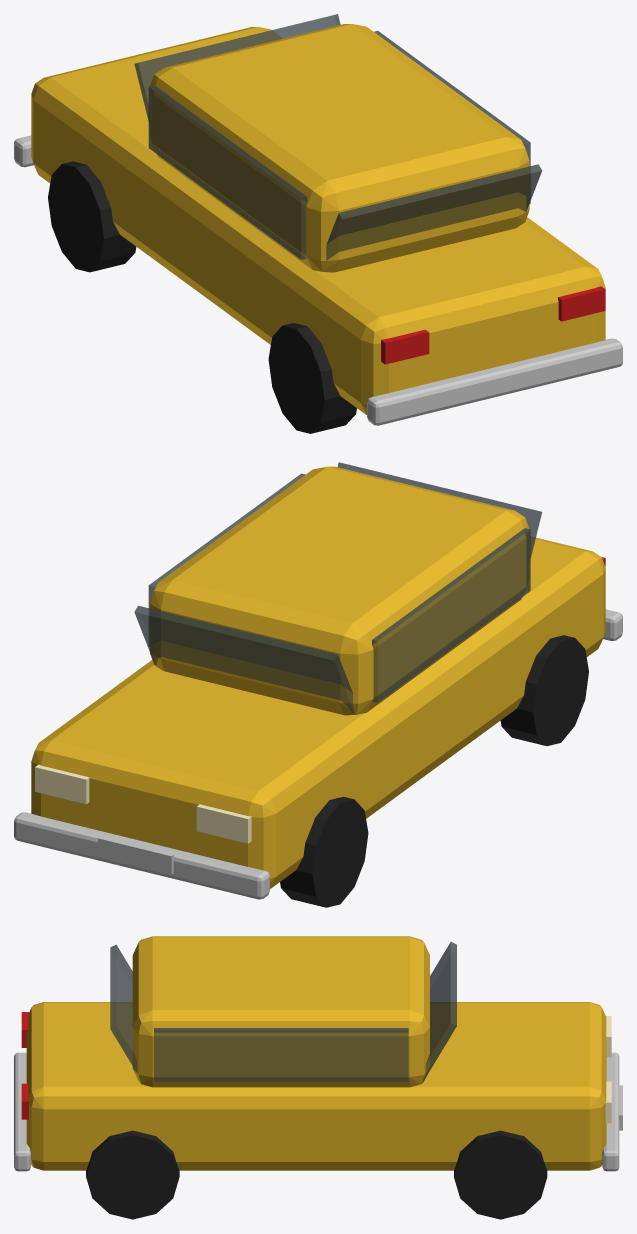
File: oto_s.glb
3 views of the same model, one above another, from view 1: azimuth 30°, elevation 25°; view 2: azimuth 150°, elevation 25°; view 3: azimuth 270°, elevation 25° (orthographic). The views are drawn at different scales.
Parts seen in each view (by area): view 1: ArkaCam; view 2: ArkaCam; view 3: ArkaCam.
Part boxes in pixels (x1,y1,x2,y2): ArkaCam: (14,14,622,433); ArkaCam: (14,462,622,907); ArkaCam: (14,936,622,1219).
Size of the model in its own units: 0.36 by 0.3 by 0.861.
